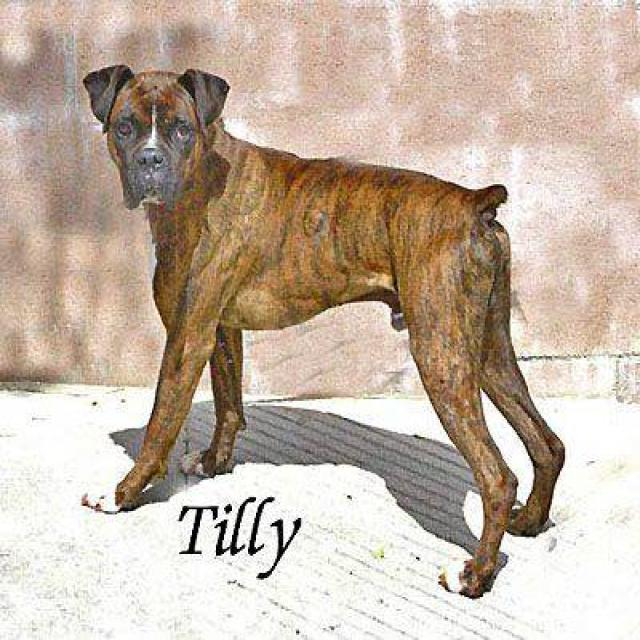dog: (76, 46, 578, 615)
